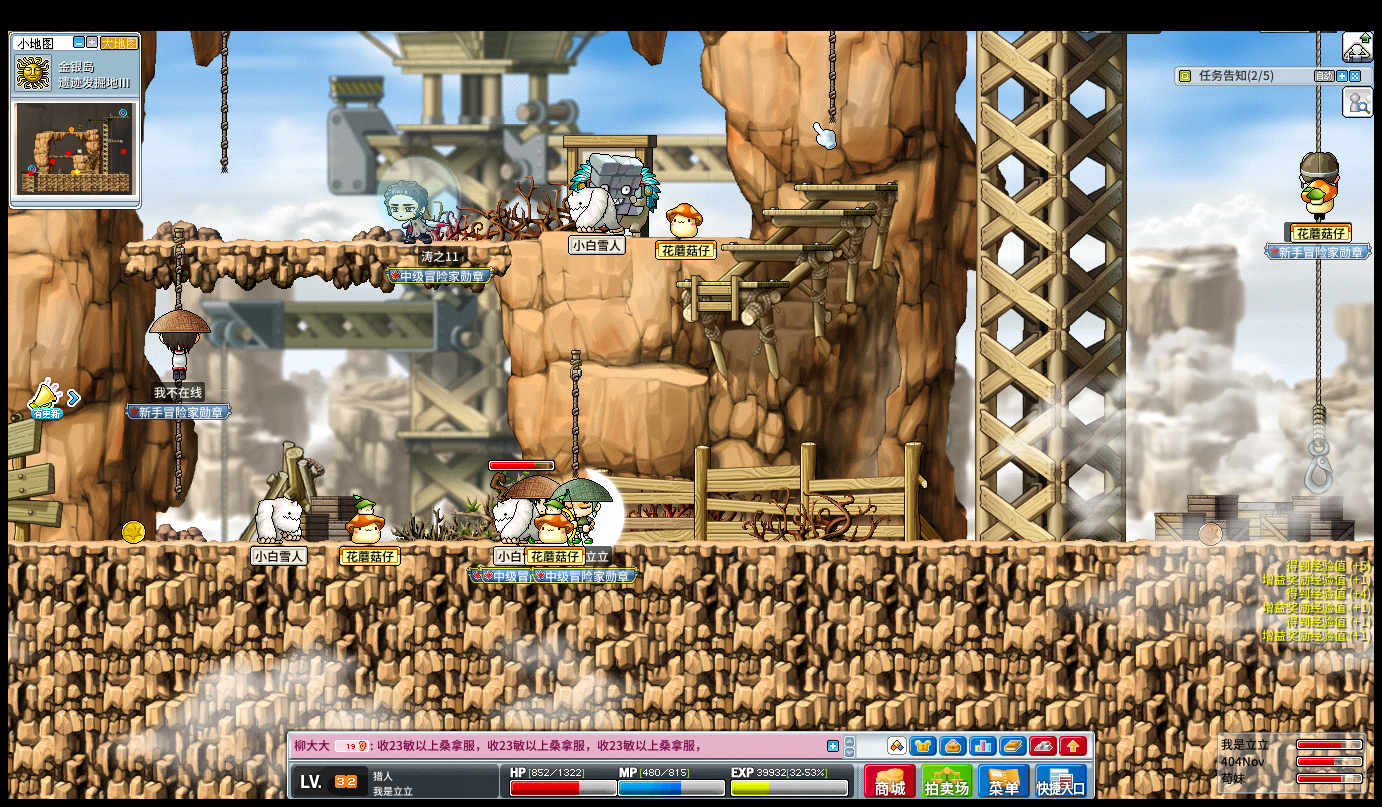floor: (8, 539, 1373, 550), (127, 239, 506, 249), (611, 364, 708, 387), (762, 209, 876, 217), (676, 281, 790, 288), (721, 244, 834, 251), (794, 184, 898, 191), (642, 236, 760, 241)
monster: (569, 152, 643, 188)
rope: (570, 351, 582, 478), (220, 30, 228, 173), (173, 228, 184, 310), (1315, 260, 1321, 403), (828, 30, 835, 124), (175, 419, 183, 500), (1315, 32, 1320, 154), (1312, 405, 1325, 439)
